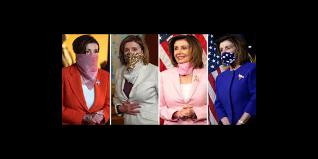mask_weared_incorrect: (174, 45, 191, 68)
with_mask: (124, 46, 142, 60), (85, 47, 99, 61), (220, 46, 235, 59)
